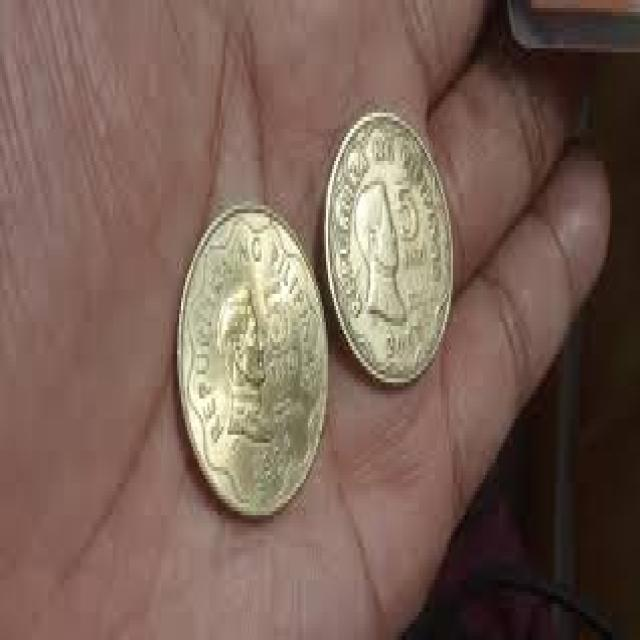5 peso-old: (173, 189, 330, 526), (322, 97, 461, 393)
